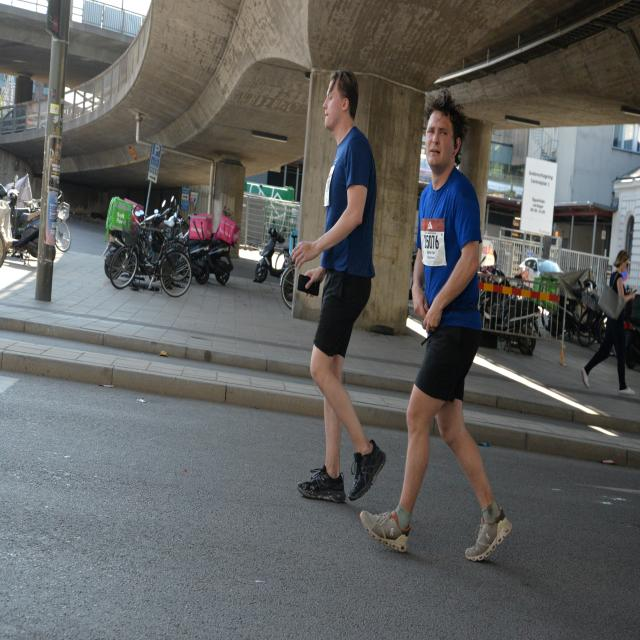runner-detect: (382, 89, 526, 566), (299, 59, 391, 508)
